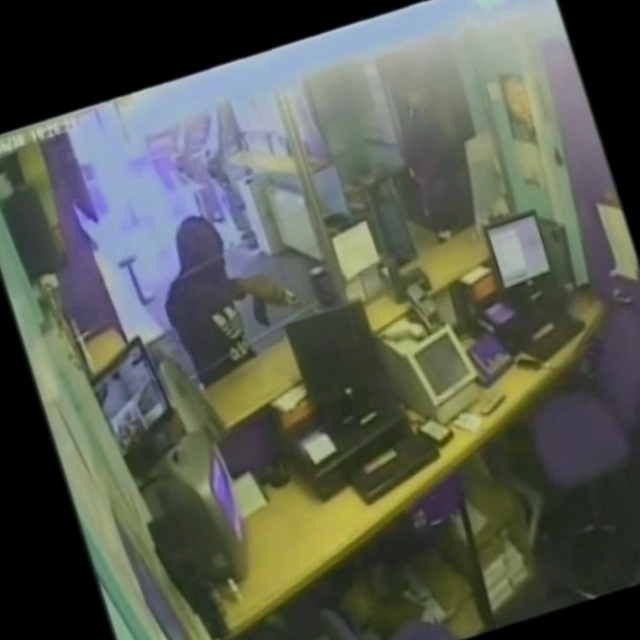gun: (255, 271, 310, 325)
